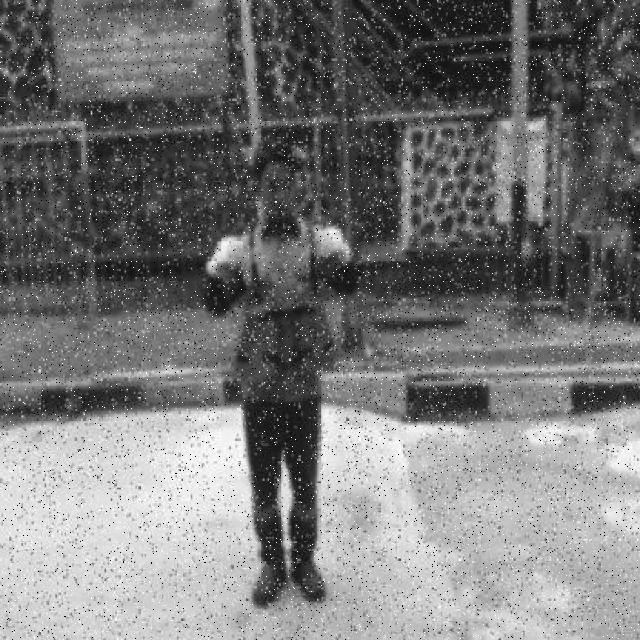Boots: (249, 556, 289, 618), (286, 553, 329, 602)
Gloves: (204, 234, 248, 282), (314, 222, 354, 270)
Mask: (233, 277, 339, 386)
